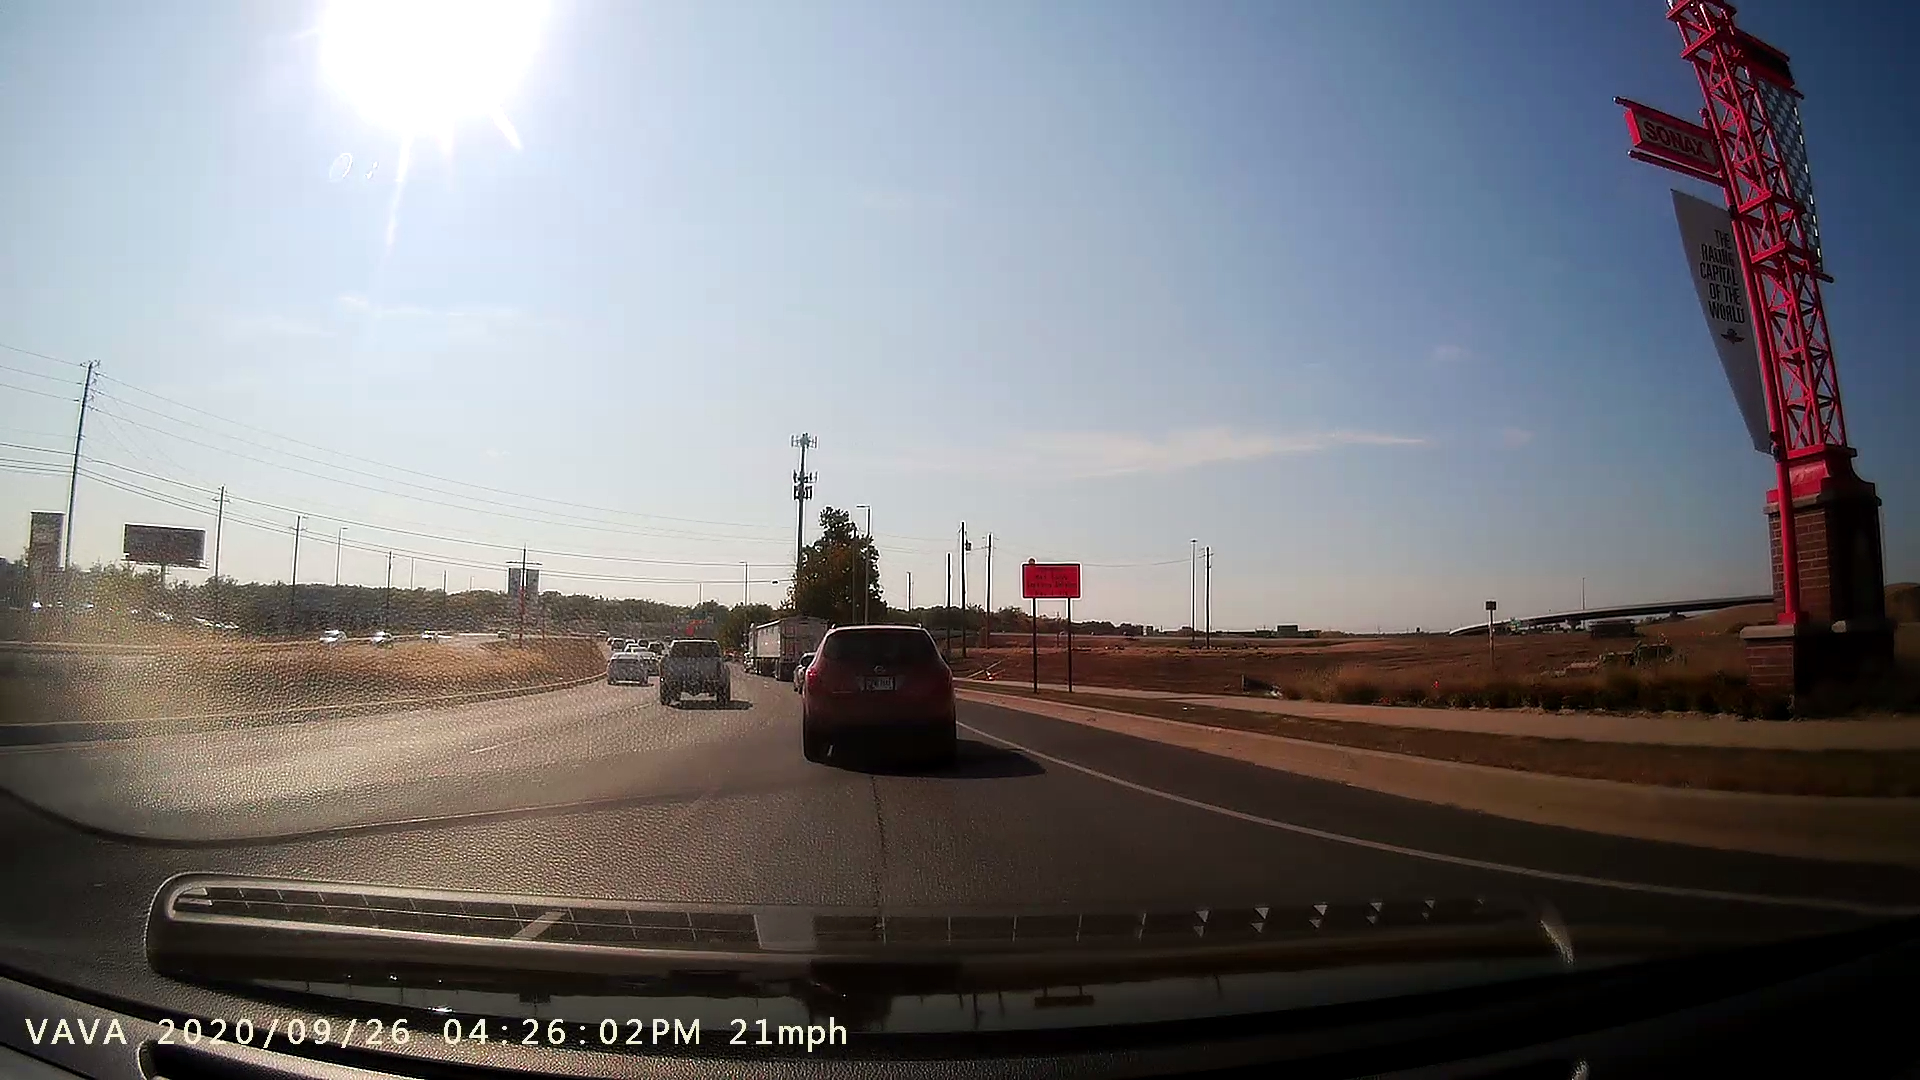temperary_sign: (1015, 549, 1095, 705)
